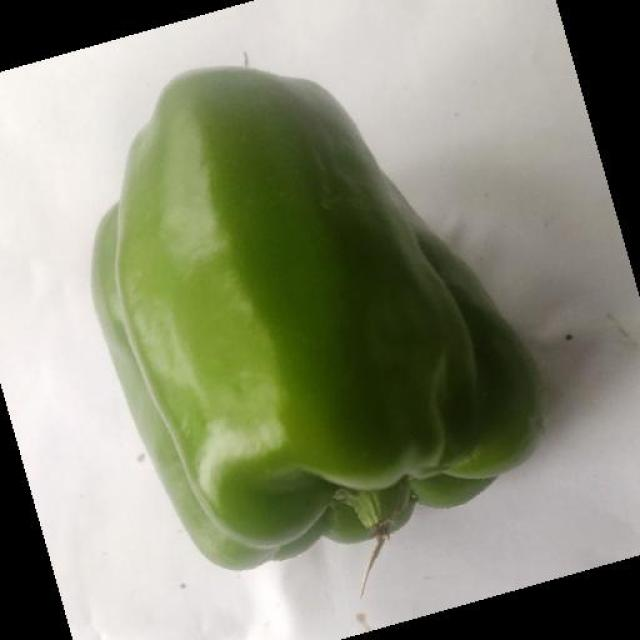Fresh_Capsicum: (48, 53, 553, 534)
